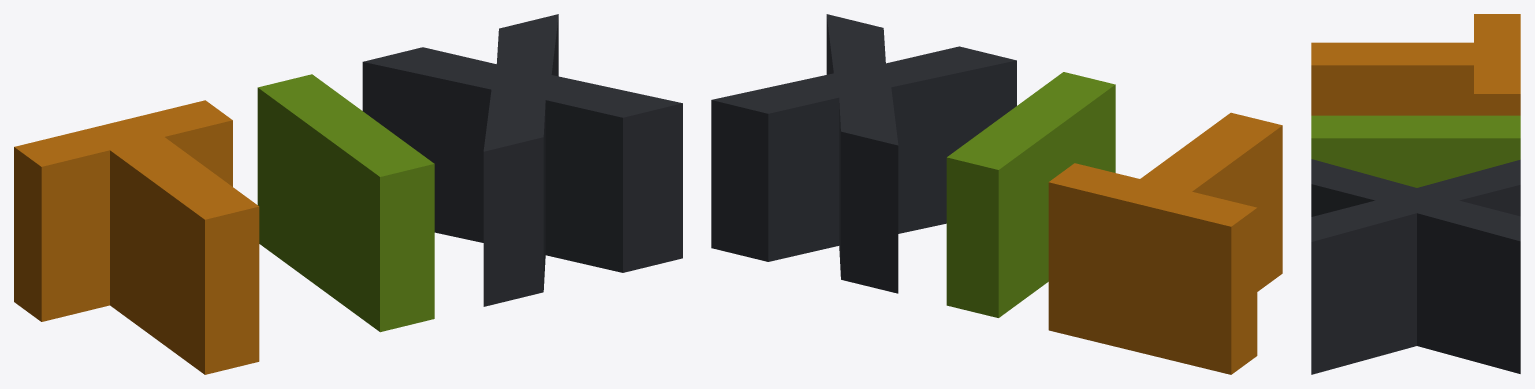
File: coptix_slim.obj
3 renders of one model, left to right at view 1: azimuth 30°, elevation 25°; view 2: azimuth 150°, elevation 25°; view 3: azimuth 270°, elevation 25°, orthographic. The views are drawn at different scales.
Visible parts, largest first — view 1: coptix_Mesh; view 2: coptix_Mesh; view 3: coptix_Mesh.
Part boxes in pixels (x1=…): coptix_Mesh: x1=14, y1=14, x2=682, y2=374; coptix_Mesh: x1=711, y1=14, x2=1282, y2=374; coptix_Mesh: x1=1311, y1=14, x2=1520, y2=374.
Size of the model in its own units: 2.11 by 0.5738 by 0.8205.
